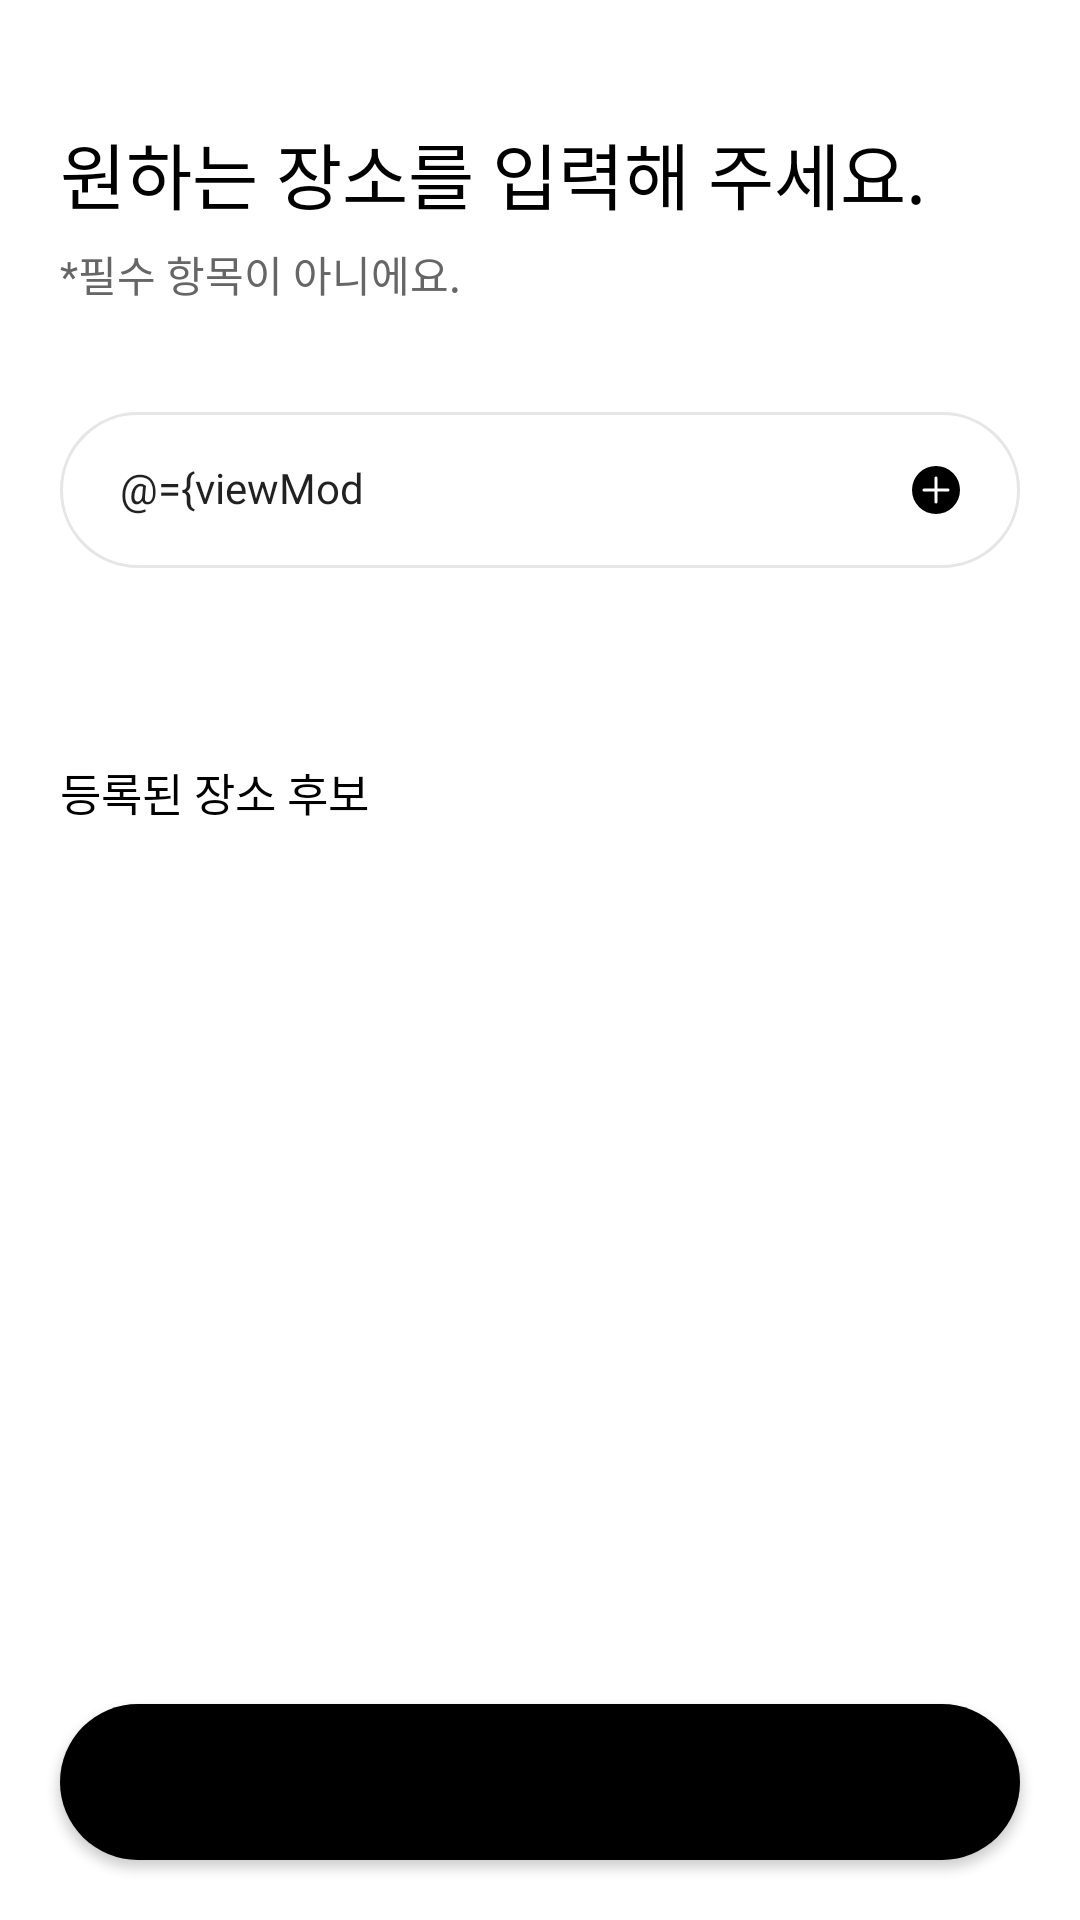

Screen size 1080 × 1920. Icon name, then its box in pixels as (left=x1, top=y1, right=x2, bottom=y2):
add: (left=912, top=466, right=960, bottom=514)
